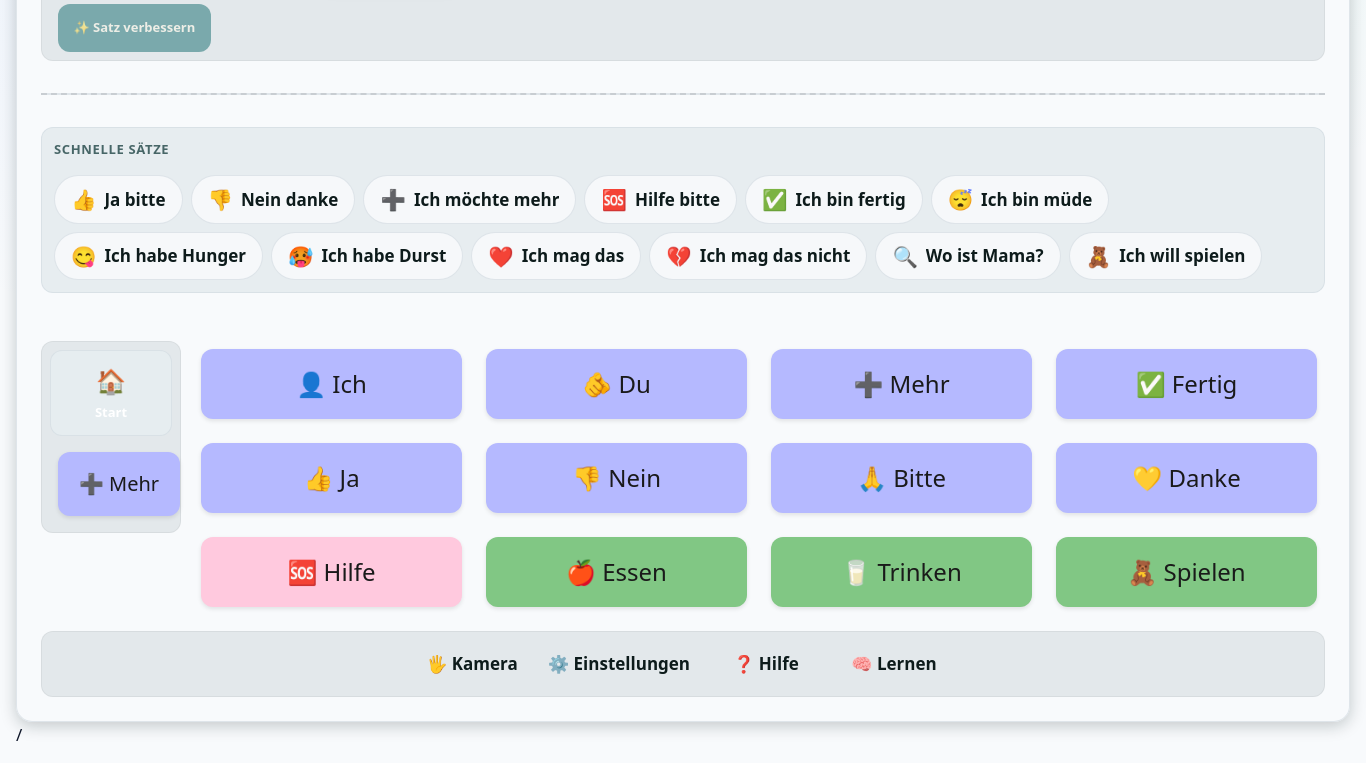
Test: MetacomBoard › shows next word recommendations after composing a word
(page scrolled)
Click the button "👤 Ich" at (332, 384), box x1=201 y1=349 x2=462 y2=419
(page scrolled)
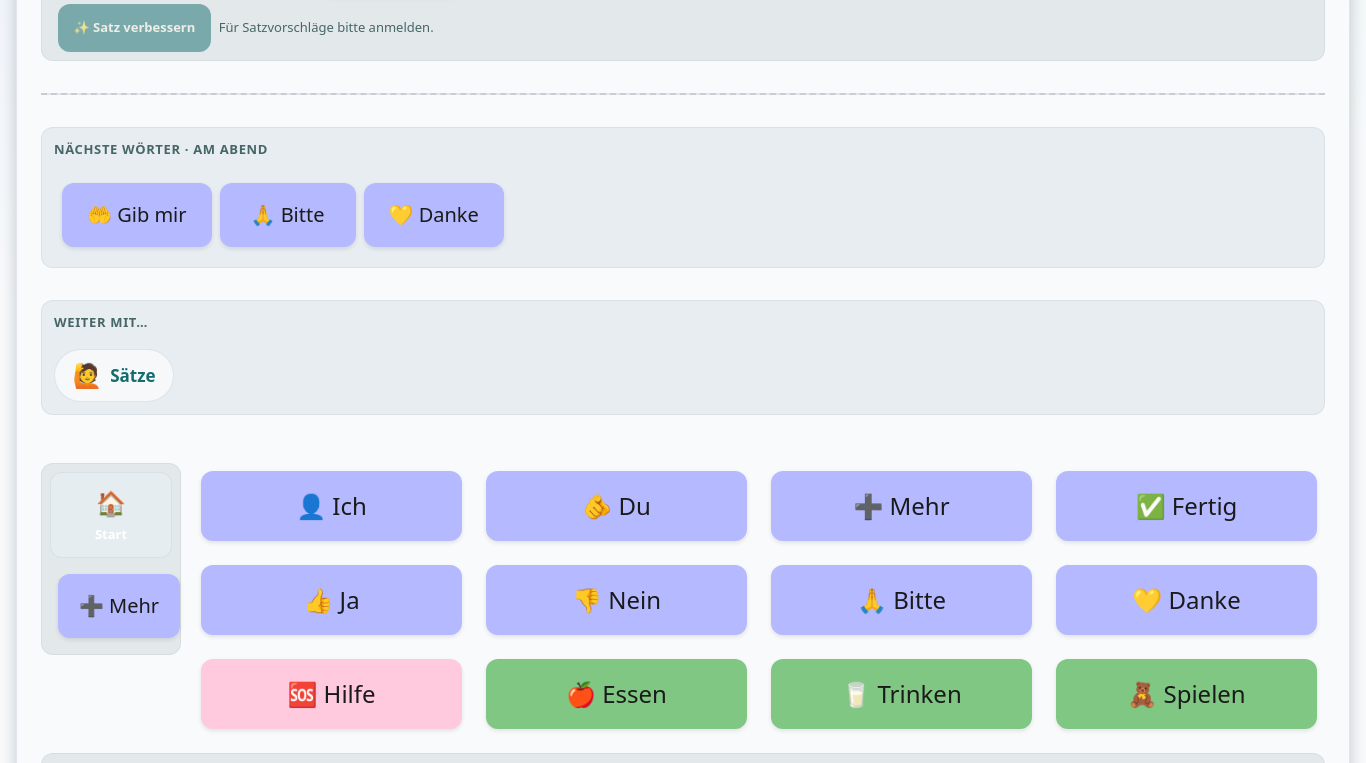
Now the text "Nächste Wörter · am Abend" is shown, box x1=54 y1=140 x2=268 y2=158
